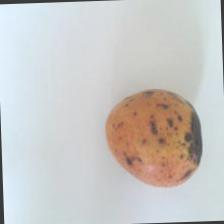Mango Overripe: (100, 87, 206, 190)
